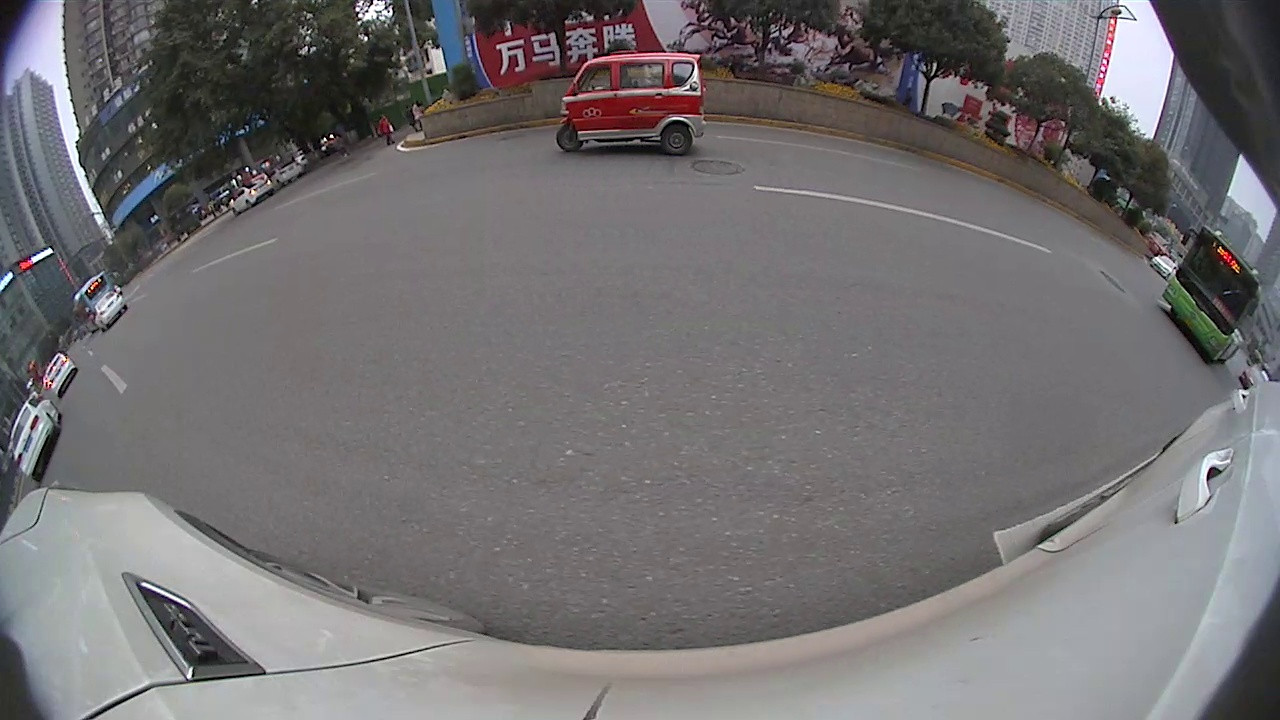bus: (1160, 223, 1258, 365), (71, 271, 115, 332)
car: (8, 395, 65, 481), (228, 178, 277, 214), (40, 352, 79, 394), (89, 291, 130, 326), (270, 159, 307, 181), (1148, 250, 1174, 273)
front: (553, 124, 583, 153)
person: (380, 114, 391, 151)
rear: (657, 125, 694, 157)
rider: (554, 53, 707, 157)
